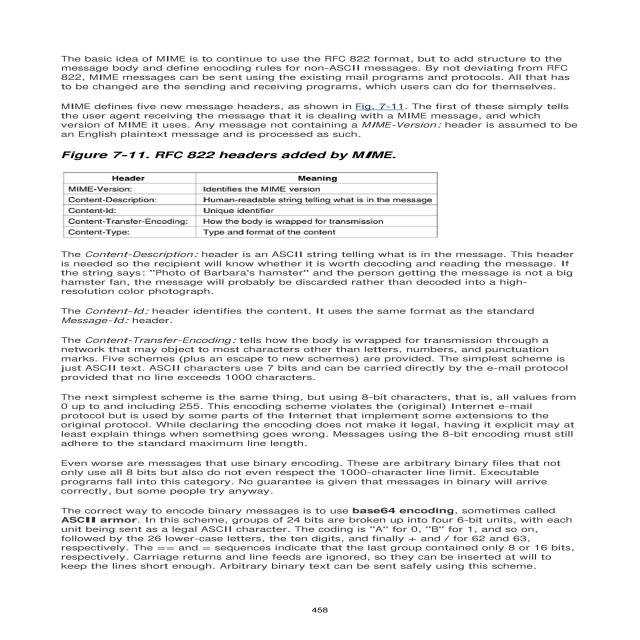diagram: (39, 142, 495, 248)
